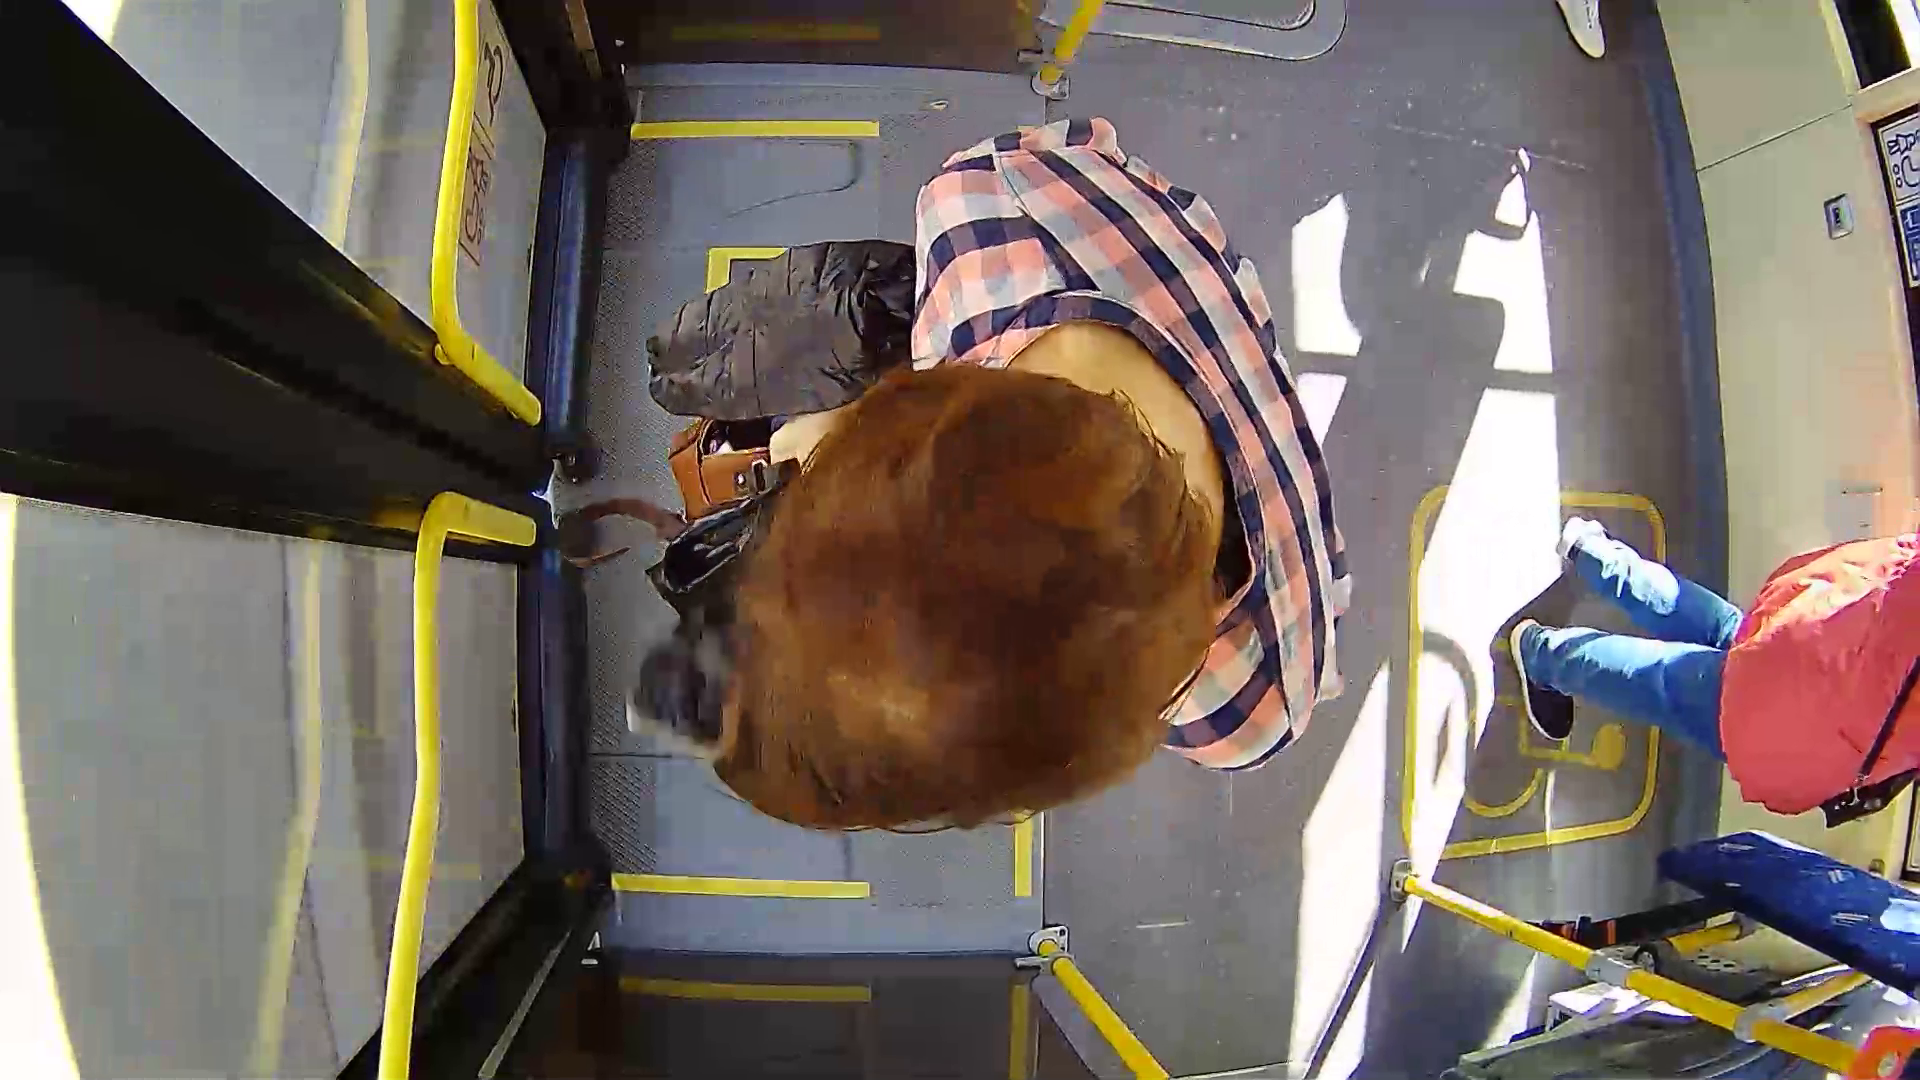person: (566, 127, 1402, 841)
